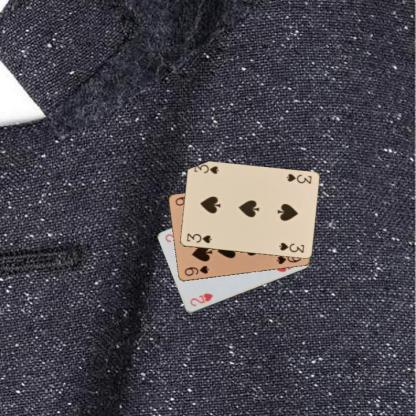2h: (187, 290, 214, 308)
3s: (184, 230, 213, 245), (284, 171, 312, 185)
9s: (182, 263, 210, 277)
